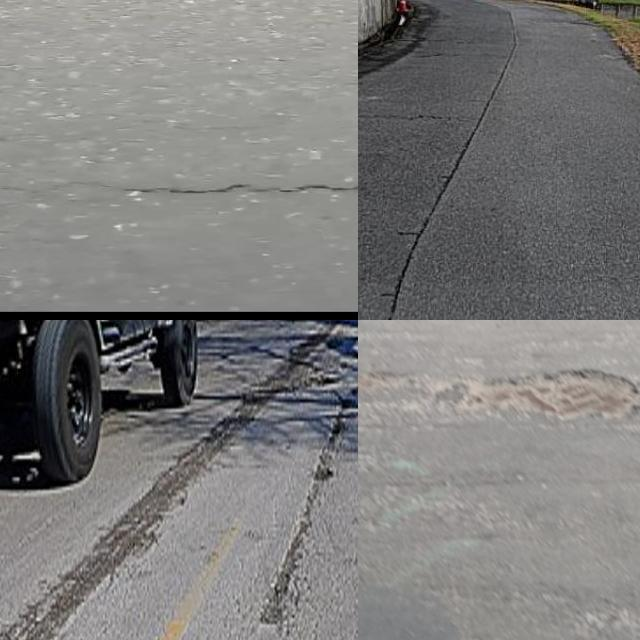Lubang: (431, 368, 640, 422)
Melintang: (104, 165, 358, 208)
Memanjang: (371, 20, 527, 320)
